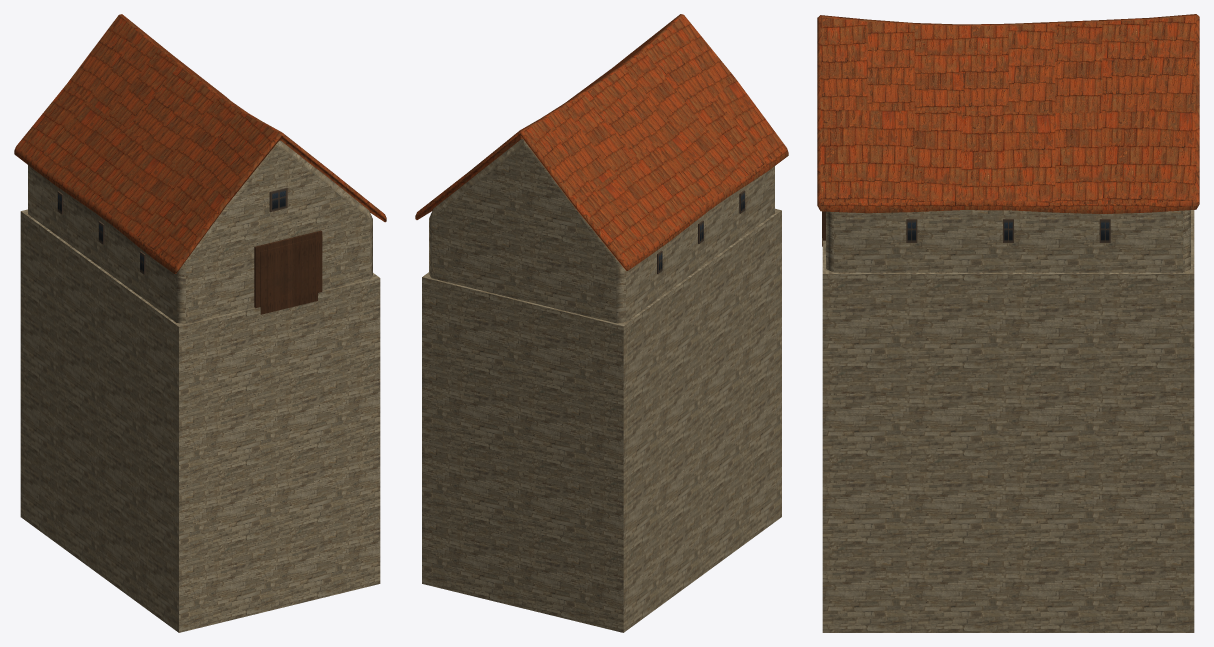
Rendered from byre.glb.
3 renders of one model, left to right at view 1: azimuth 30°, elevation 25°; view 2: azimuth 150°, elevation 25°; view 3: azimuth 270°, elevation 25°, orthographic. The views are drawn at different scales.
Parts seen in each view (by area): view 1: byre_export; view 2: byre_export; view 3: byre_export.
Boxes of the visible parts, x1=… form: byre_export: x1=14, y1=14, x2=386, y2=632; byre_export: x1=415, y1=14, x2=788, y2=632; byre_export: x1=817, y1=14, x2=1199, y2=632.
Size of the model in its own units: 12.8 by 27.5 by 17.
Materials: 4 (4 with a texture image).
